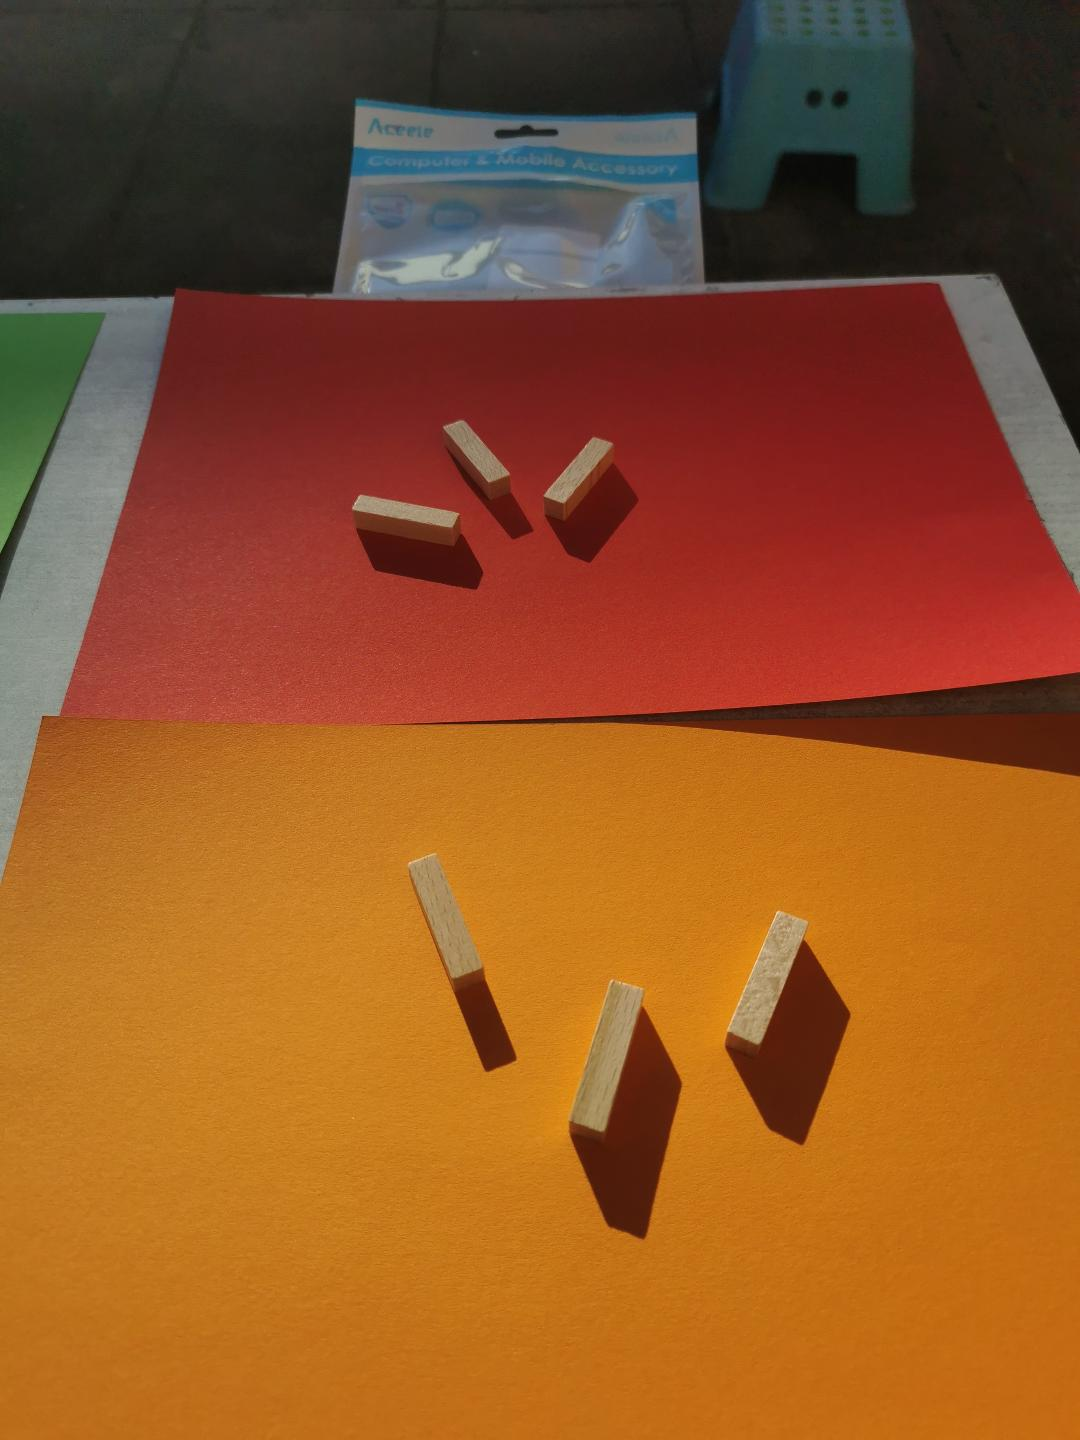jenga: (568, 982, 644, 1142), (726, 912, 808, 1058), (407, 855, 483, 990), (542, 435, 613, 520), (441, 420, 512, 498), (352, 495, 462, 545)
